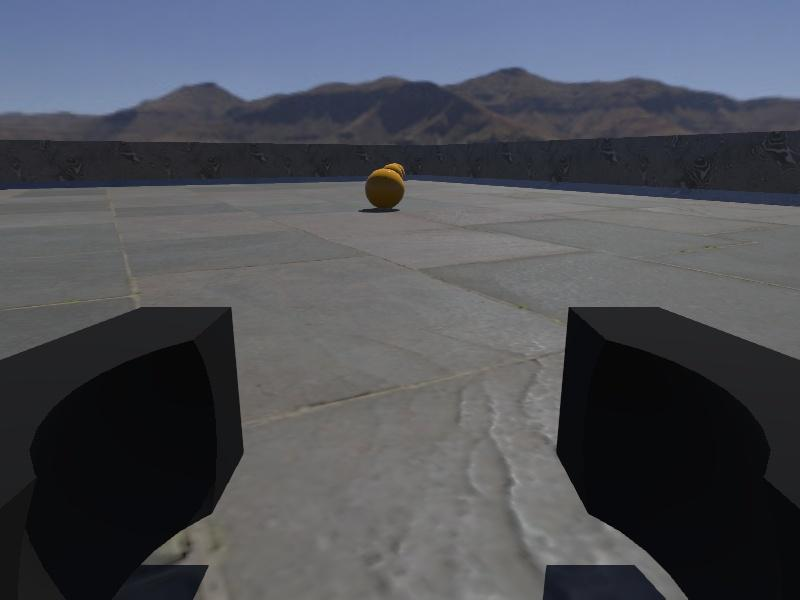orange ball: (364, 167, 406, 210)
